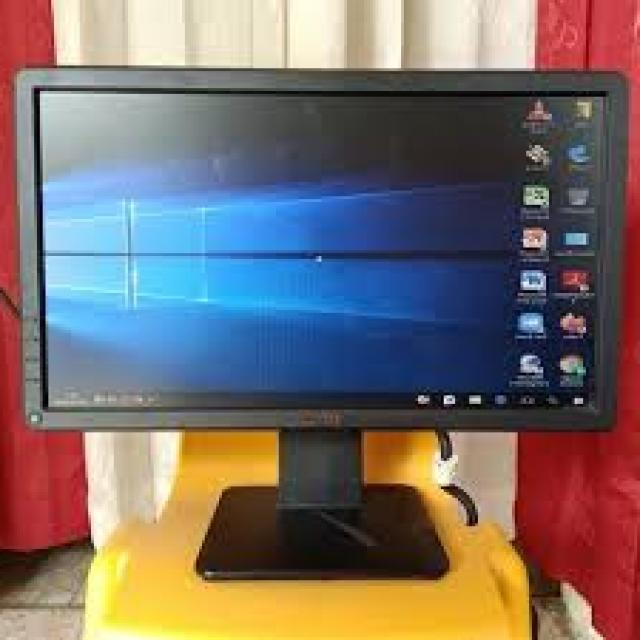monitor: (11, 37, 630, 591)
